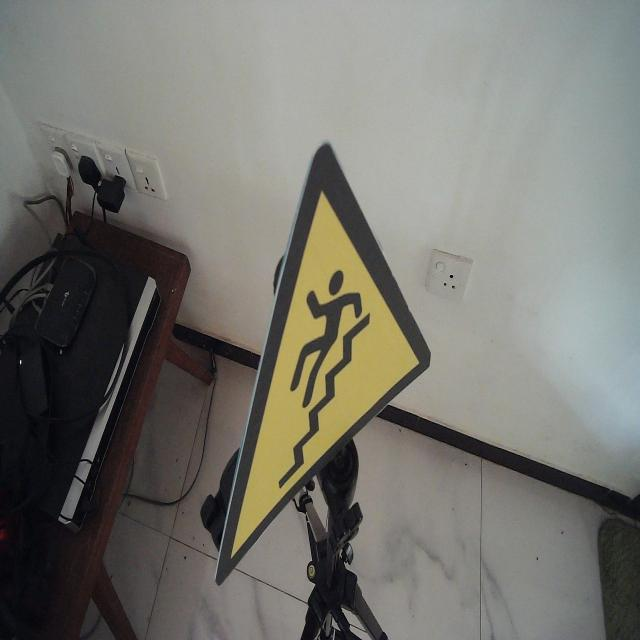stairs: (214, 138, 433, 588)
